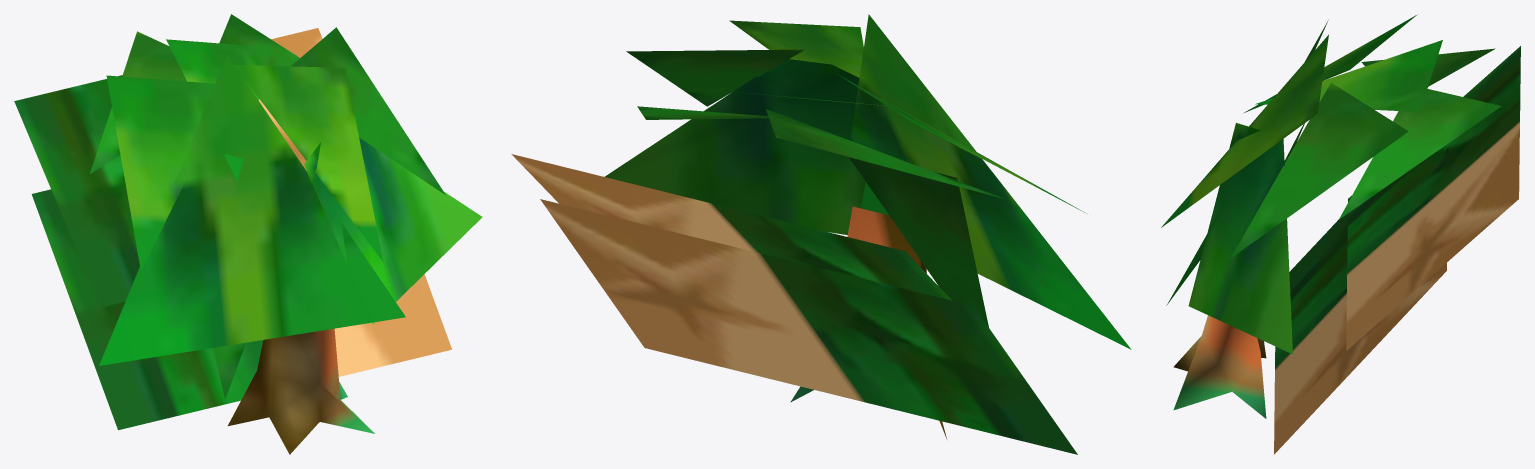
The model's file is fg_bushE_1.dae.
3 renders of one model, left to right at view 1: azimuth 30°, elevation 25°; view 2: azimuth 150°, elevation 25°; view 3: azimuth 270°, elevation 25°, orthographic. The views are drawn at different scales.
Parts seen in each view (by area): view 1: fg_bushE_1; view 2: fg_bushE_1; view 3: fg_bushE_1.
Boxes of the visible parts, bbox=[...] form: fg_bushE_1: bbox=[14, 14, 482, 454]; fg_bushE_1: bbox=[511, 14, 1131, 454]; fg_bushE_1: bbox=[1161, 15, 1520, 454].
Bounding box in the file's own units: 33.31 × 27.02 × 24.92.
Materials: 1 (1 with a texture image).
